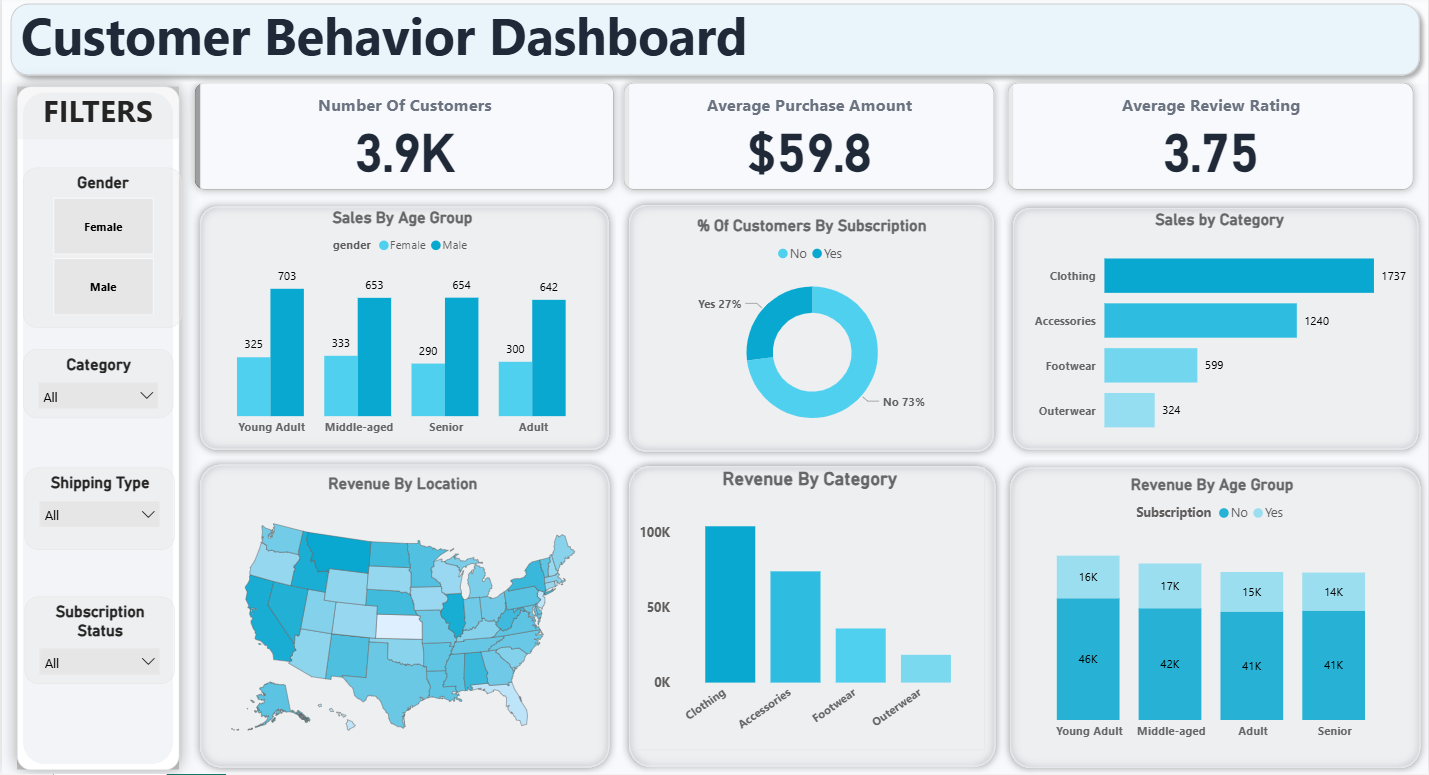

The page's visual inventory and layout, read from the dashboard file:
{"tool":"powerbi","page":{"name":"Page 1","canvas":[1500,820],"ordinal":0},"visuals":[{"type":"cardVisual","title":"Number Of Customers","fields":{"Data":["public customer.Number of Customers"]},"box":[186.4,76.3,473,145.5],"z":0},{"type":"shape","box":[0,0,1499.4,93.6],"z":1000},{"type":"shape","box":[1054.3,216.5,441.9,269.8],"z":1000,"group":"g4"},{"type":"group","id":"g1","title":"Group 3","box":[651.2,212.9,399.3,275],"z":2000},{"type":"clusteredBarChart","title":"Sales by Category","fields":{"Category":["public customer.category"],"Y":["public customer.Total Sales"]},"box":[1077.3,226.3,403.1,254.1],"z":2000,"group":"g4"},{"type":"shape","box":[1052.5,488.1,447.3,331.9],"z":2500,"group":"g6"},{"type":"textbox","box":[0,0,1499.4,94],"z":3000},{"type":"shape","box":[15.4,95.4,170.4,718.8],"z":3000,"group":"g3"},{"type":"shape","box":[200.5,214.7,445.6,271.6],"z":3000,"group":"g5"},{"type":"cardVisual","title":"Number Of Customers","fields":{"Data":["public customer.Average Purchase Amount"]},"box":[637.2,76.3,422,145.5],"z":4000},{"type":"clusteredColumnChart","title":"Sales By Age Group","fields":{"Category":["public customer.age_group"],"Y":["public customer.Total Sales"],"Series":["public customer.gender"]},"box":[204.8,224.7,432,248.5],"z":4000,"group":"g5"},{"type":"shape","box":[651.2,212.9,399.3,275],"z":5000,"group":"g8"},{"type":"group","id":"g2","title":"Group 4","box":[200.3,485.7,446.3,334.3],"z":5000},{"type":"group","id":"g3","title":"Group 5","box":[15.4,95.4,170.4,718.8],"z":6000},{"type":"donutChart","title":"% Of Customers By Subscription","fields":{"Category":["public customer.subscription_status"],"Y":["CountNonNull(public customer.customer_id)"]},"box":[670.2,232.6,362.5,238.2],"z":6000,"group":"g8"},{"type":"textbox","box":[16,92.3,170.4,58.6],"z":7000},{"type":"slicer","title":"Category","fields":{"Values":["public customer.category"]},"box":[21.3,372.6,157.9,72.8],"z":8000},{"type":"shape","box":[651.2,488,401.1,331.9],"z":8000,"group":"g7"},{"type":"slicer","title":"Gender","fields":{"Values":["public customer.gender"]},"box":[21.3,181,166.8,168.6],"z":9000},{"type":"clusteredColumnChart","title":"Revenue By Category","fields":{"Y":["Sum(public customer.purchase_amount)"],"Category":["public customer.category"]},"box":[664.2,497.3,369.5,297.1],"z":9000,"group":"g7"},{"type":"slicer","title":"Subscription Status","fields":{"Values":["public customer.subscription_status"]},"box":[23.1,631.7,157.9,92.3],"z":10000},{"type":"slicer","title":"Shipping Type","fields":{"Values":["public customer.shipping_type"]},"box":[23.1,496.8,157.9,86.9],"z":11000},{"type":"cardVisual","title":"Number Of Customers","fields":{"Data":["public customer.Average Review Rating"]},"box":[1040.1,76.3,459.7,145.5],"z":12000},{"type":"group","id":"g4","title":"Group 8","box":[1054.3,216.5,441.9,269.8],"z":13000},{"type":"shape","box":[200.3,485.7,446.3,334.3],"z":13000,"group":"g2"},{"type":"group","id":"g5","title":"Group 1","box":[200.5,214.7,436.5,271.5],"z":14000},{"type":"shapeMap","title":"Revenue By Location","fields":{"Category":["public customer.location"],"Value":["public customer.Total Revenue"]},"box":[215.8,502.8,410.7,302.7],"z":14000,"group":"g2"},{"type":"group","id":"g6","title":"Group 6","box":[1052.5,488.1,447.3,331.9],"z":15000},{"type":"group","id":"g7","title":"Group 2","box":[651.2,488,401,331.8],"z":16000},{"type":"group","id":"g8","title":"Group 7","box":[651.2,212.9,399.3,275],"z":17001,"group":"g1"},{"type":"columnChart","title":"Revenue By Age Group","fields":{"Category":["public customer.age_group"],"Y":["Sum(public customer.purchase_amount)"],"Series":["public customer.subscription_status"]},"box":[1069.6,503.2,405.7,287.2],"z":17500,"group":"g6"}]}

Visuals, with their boxes in screenshot pixels (x1, y1, x2, y2), scaled from the page's 1500x820 canvas onto the 1429x775 screenshot:
"Number Of Customers" cardVisual: <box>178,72,628,210</box>
shape: <box>0,0,1428,88</box>
shape: <box>1004,205,1425,460</box>
"Group 3" group: <box>620,201,1001,461</box>
"Sales by Category" clusteredBarChart: <box>1026,214,1410,454</box>
shape: <box>1003,461,1428,774</box>
textbox: <box>0,0,1428,89</box>
shape: <box>15,90,177,770</box>
shape: <box>191,203,616,460</box>
"Number Of Customers" cardVisual: <box>607,72,1009,210</box>
"Sales By Age Group" clusteredColumnChart: <box>195,212,607,447</box>
shape: <box>620,201,1001,461</box>
"Group 4" group: <box>191,459,616,774</box>
"Group 5" group: <box>15,90,177,770</box>
"% Of Customers By Subscription" donutChart: <box>638,220,984,445</box>
textbox: <box>15,87,178,143</box>
"Category" slicer: <box>20,352,171,421</box>
shape: <box>620,461,1002,774</box>
"Gender" slicer: <box>20,171,179,330</box>
"Revenue By Category" clusteredColumnChart: <box>633,470,985,751</box>
"Subscription Status" slicer: <box>22,597,172,684</box>
"Shipping Type" slicer: <box>22,470,172,552</box>
"Number Of Customers" cardVisual: <box>991,72,1428,210</box>
"Group 8" group: <box>1004,205,1425,460</box>
shape: <box>191,459,616,774</box>
"Group 1" group: <box>191,203,607,460</box>
"Revenue By Location" shapeMap: <box>206,475,597,761</box>
"Group 6" group: <box>1003,461,1428,774</box>
"Group 2" group: <box>620,461,1002,774</box>
"Group 7" group: <box>620,201,1001,461</box>
"Revenue By Age Group" columnChart: <box>1019,476,1405,747</box>
